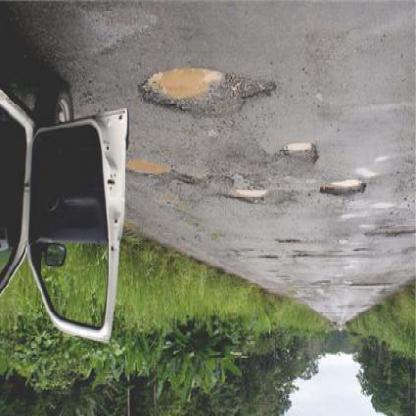pothole: (137, 68, 279, 123), (125, 161, 178, 186), (321, 180, 370, 201), (283, 141, 321, 166), (368, 226, 416, 243), (228, 188, 270, 206), (276, 238, 304, 249)
